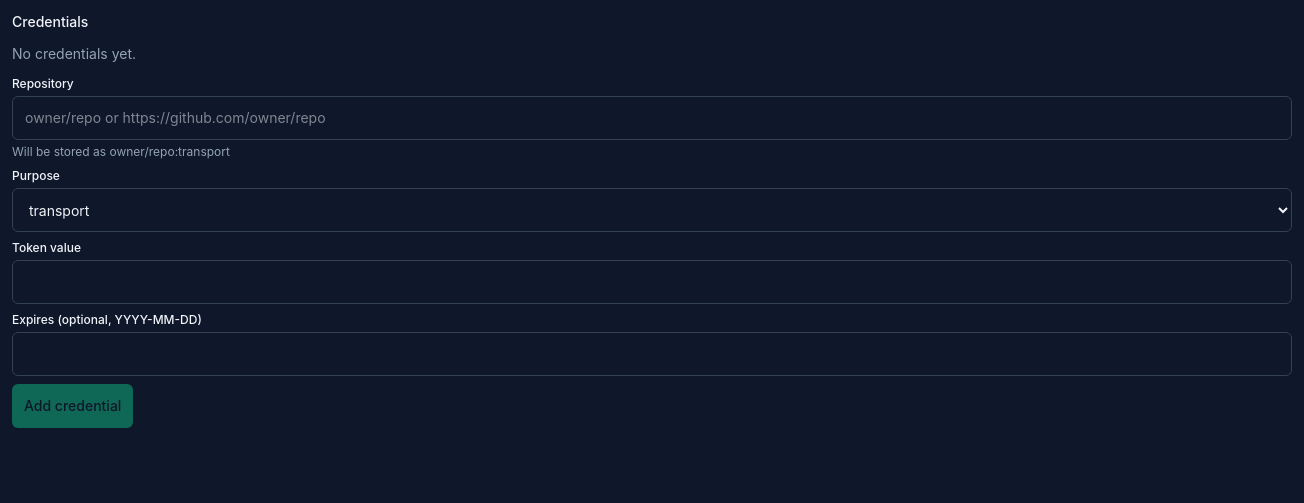
it: CredentialsSection › surfaces a validation error (422) from the add form without losing the typed repository field
The width and height of the screenshot is (1304, 503).
expect the text "No credentials yet." is shown: met, box [12,45,136,62]
Step 1. Type "acme/widget" into the field with test id "credential-engine-input" → [652, 118], box [12,96,1292,140]
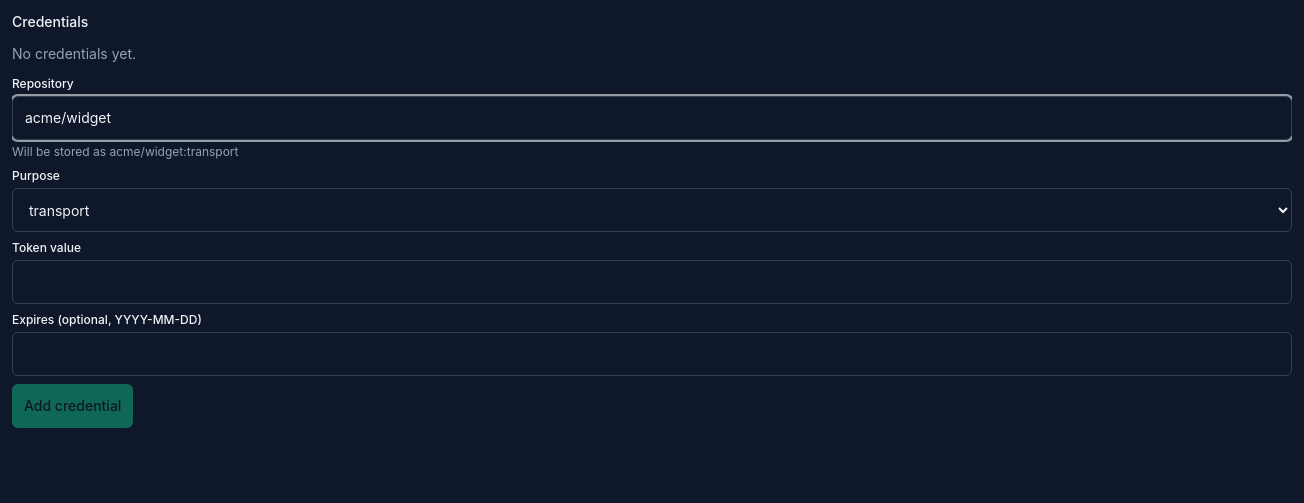
Step 2. Type "x" into the password field with test id "credential-value-input" → [652, 282], box [12,260,1292,304]
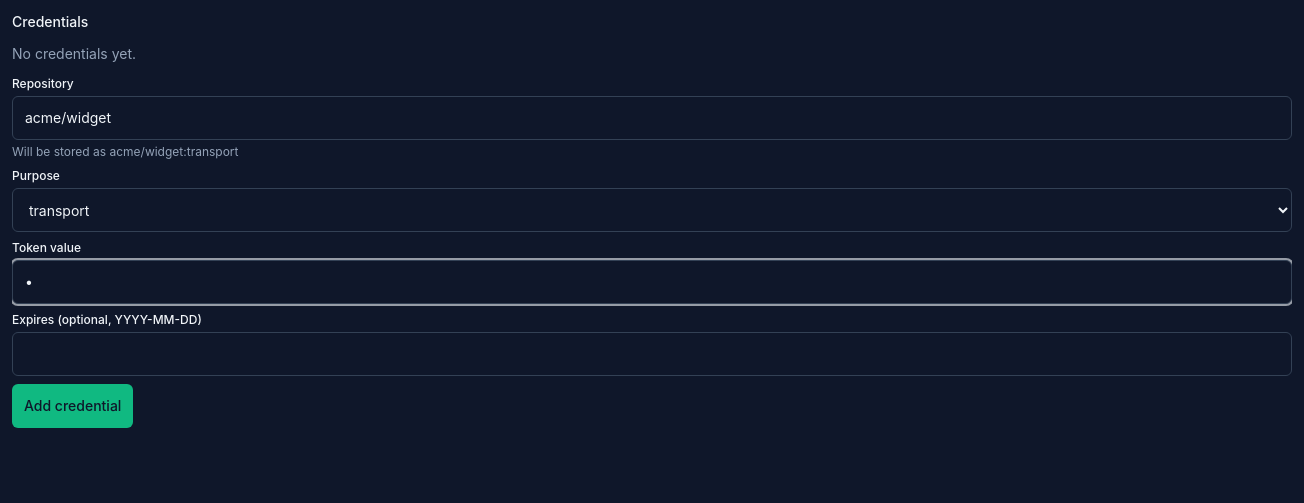
Step 3. Click the button with test id "credential-submit" → [73, 406], box [12,384,133,428]
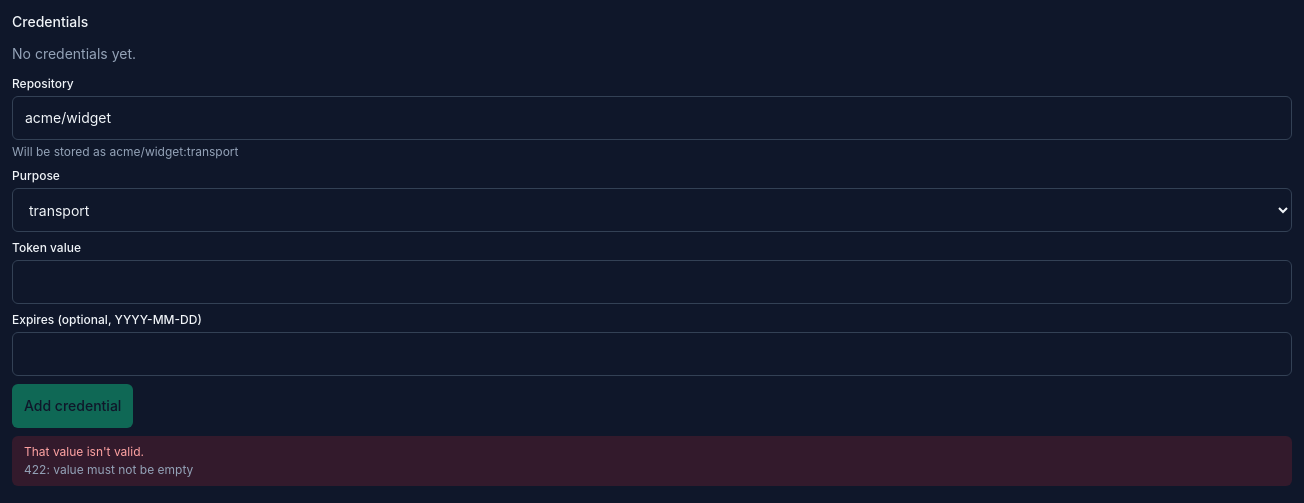
expect the message "That value isn't valid. 422: value must not be empty" is shown: met, box [12,436,1292,486]
